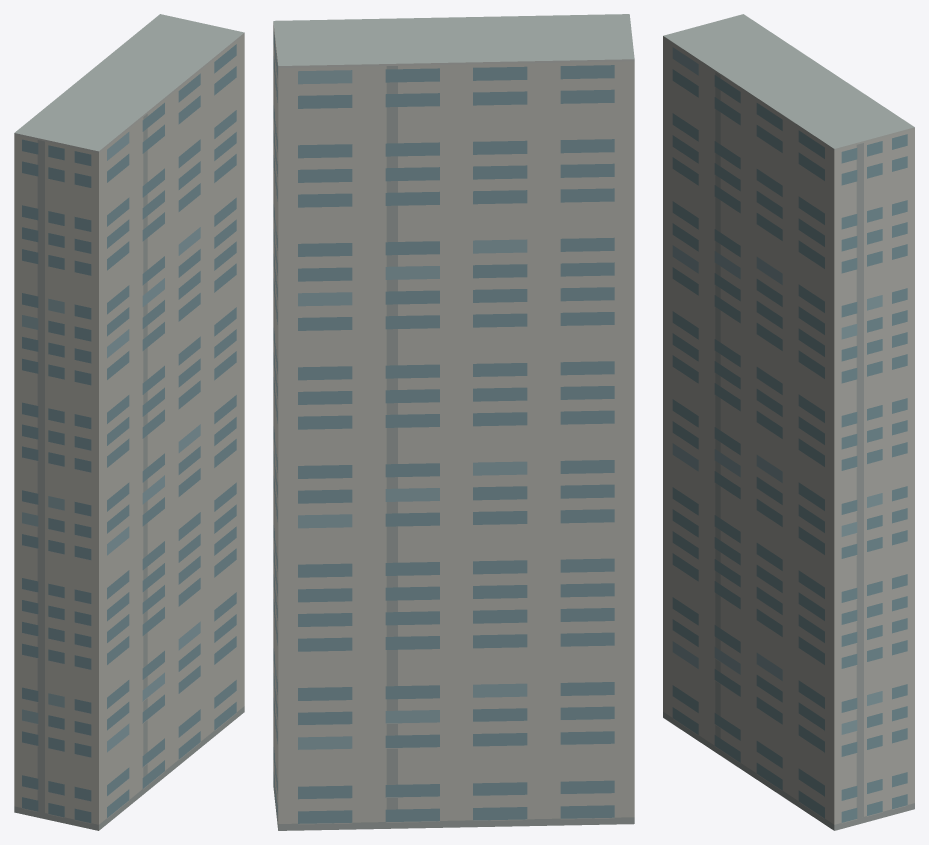
Rendered from residential-6393555f-1d09-4fb4-b739-e9abb9ac2bc9.glb.
3 views of the same model, side by side, from view 1: azimuth 30°, elevation 25°; view 2: azimuth 150°, elevation 25°; view 3: azimuth 270°, elevation 25° (orthographic). The views are drawn at different scales.
Visible parts, largest first — view 1: residential-6393555f-1d09-4fb4-b739-e9abb9ac2bc9.tmp; view 2: residential-6393555f-1d09-4fb4-b739-e9abb9ac2bc9.tmp; view 3: residential-6393555f-1d09-4fb4-b739-e9abb9ac2bc9.tmp.
Boxes of the visible parts, x1,y1,x2,y2 form: residential-6393555f-1d09-4fb4-b739-e9abb9ac2bc9.tmp: (14,14,244,830); residential-6393555f-1d09-4fb4-b739-e9abb9ac2bc9.tmp: (273,14,634,830); residential-6393555f-1d09-4fb4-b739-e9abb9ac2bc9.tmp: (663,14,914,830).
Bounding box in the file's own units: 38.65 × 91 × 30.47.
